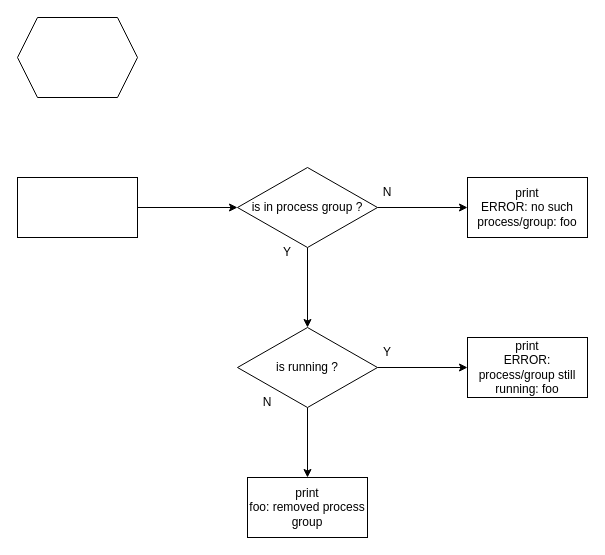
This 605x555 diagram has some shape labels left out. The centre of each missing label's shape, as x and y in pixels:
on event: (77,207)
remove foo: (77,57)
